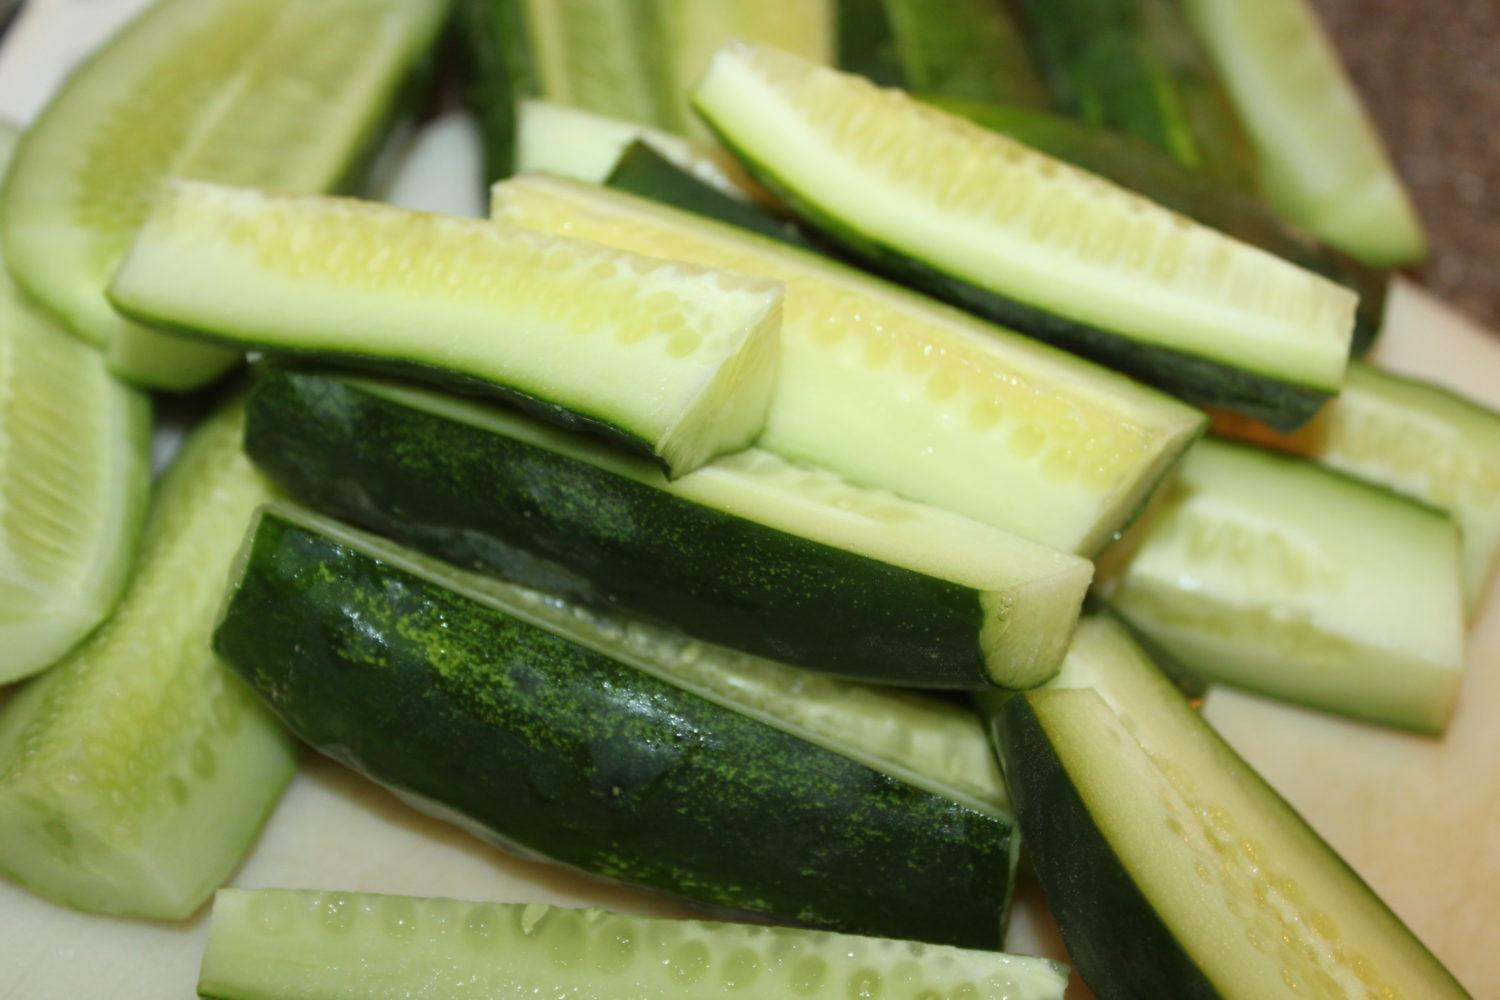cucumber: (2, 4, 1493, 996)
